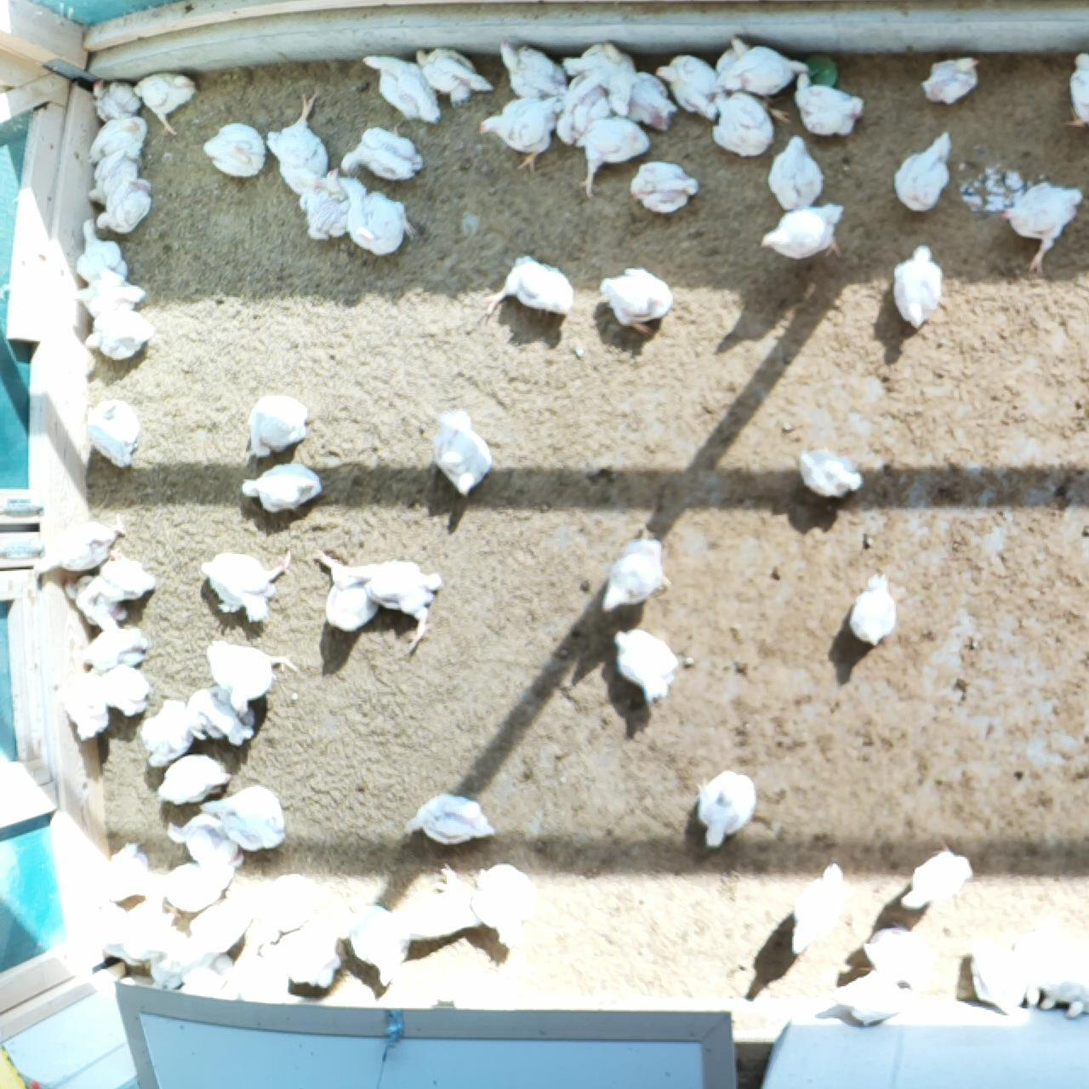chicken: (330, 562, 441, 647), (1002, 183, 1082, 274), (207, 640, 302, 713), (266, 89, 329, 198), (200, 551, 291, 623), (75, 560, 157, 638), (1023, 925, 1089, 1021), (576, 117, 651, 200), (483, 254, 574, 322), (479, 100, 568, 168), (470, 864, 539, 951), (790, 861, 855, 951), (34, 516, 129, 577), (272, 913, 348, 989), (407, 866, 487, 938), (200, 785, 286, 851), (242, 875, 318, 949), (362, 53, 440, 125), (342, 177, 414, 254), (602, 529, 670, 608), (563, 43, 636, 115), (431, 411, 493, 495), (316, 551, 381, 631), (349, 904, 411, 987), (712, 94, 793, 157), (614, 628, 681, 704), (402, 793, 499, 845), (600, 266, 672, 336), (696, 768, 757, 849), (220, 950, 308, 1006), (760, 204, 842, 264), (900, 848, 974, 913), (138, 698, 207, 767), (186, 879, 253, 950), (793, 72, 865, 138), (340, 123, 423, 180), (970, 940, 1029, 1019), (834, 970, 913, 1028), (655, 54, 721, 122), (417, 47, 493, 106), (767, 134, 825, 211), (498, 40, 572, 100), (895, 134, 951, 213), (93, 840, 162, 904), (864, 927, 940, 985), (166, 813, 246, 868), (721, 45, 808, 94), (892, 245, 943, 328), (136, 70, 197, 139), (71, 220, 129, 291), (150, 930, 213, 995), (300, 170, 357, 241), (241, 464, 322, 513), (85, 398, 139, 470), (187, 687, 257, 742), (75, 270, 146, 323), (55, 675, 111, 742), (631, 159, 699, 214), (249, 393, 306, 458), (156, 755, 228, 806), (162, 863, 236, 910), (204, 123, 266, 179), (78, 627, 151, 674), (619, 70, 676, 130), (849, 574, 896, 645), (797, 447, 861, 499), (557, 87, 610, 146), (89, 907, 137, 972), (87, 312, 149, 362), (95, 179, 153, 232), (184, 947, 242, 1000), (88, 117, 147, 168), (125, 908, 174, 969), (87, 149, 139, 204), (96, 665, 151, 716), (921, 58, 980, 105), (91, 79, 139, 125), (713, 38, 753, 88), (1066, 55, 1089, 128)
